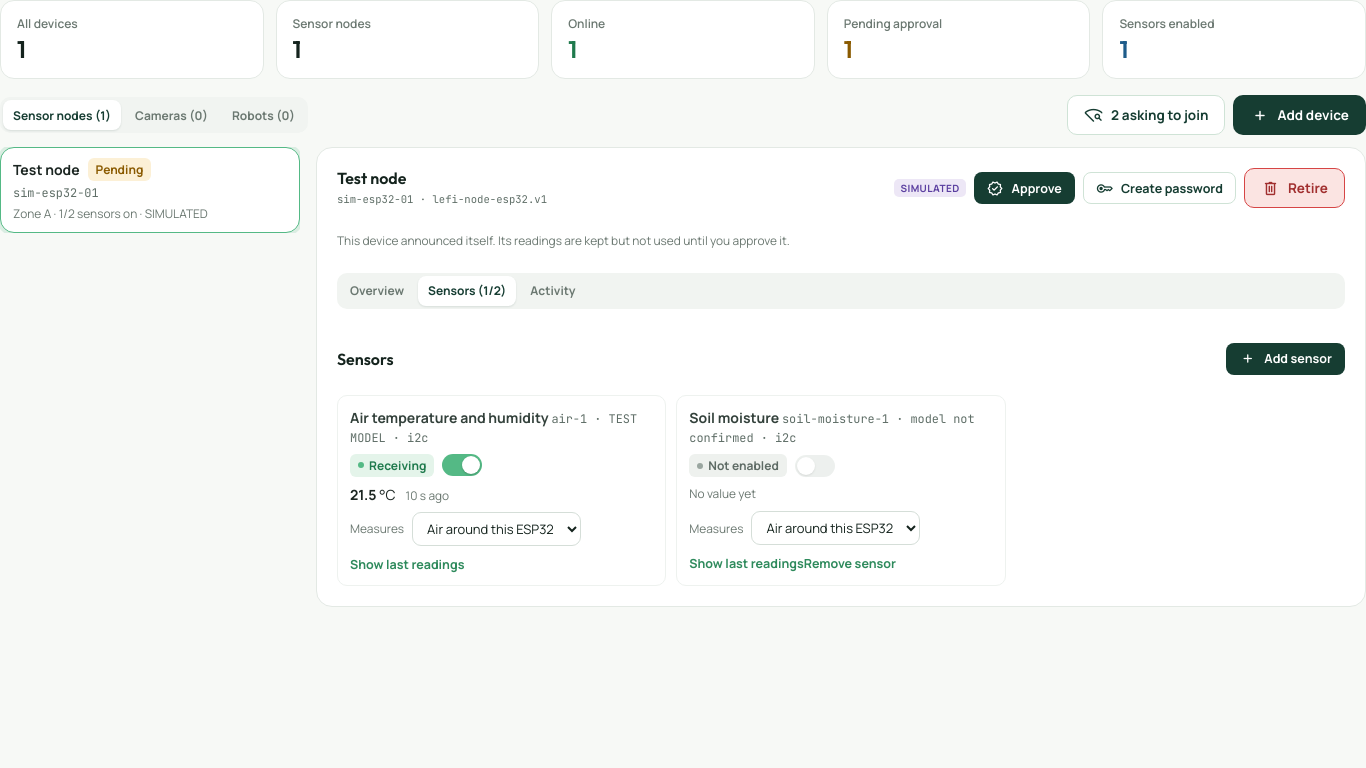
Test: Devices & Health against the real Lefi Brain › accepts a device that asked to join only with its claim code
The image size is (1366, 768).
Later steps or results of the test are not shown.
Click the button "2 asking to join".
click(1146, 115)  # box [1067, 95, 1225, 135]
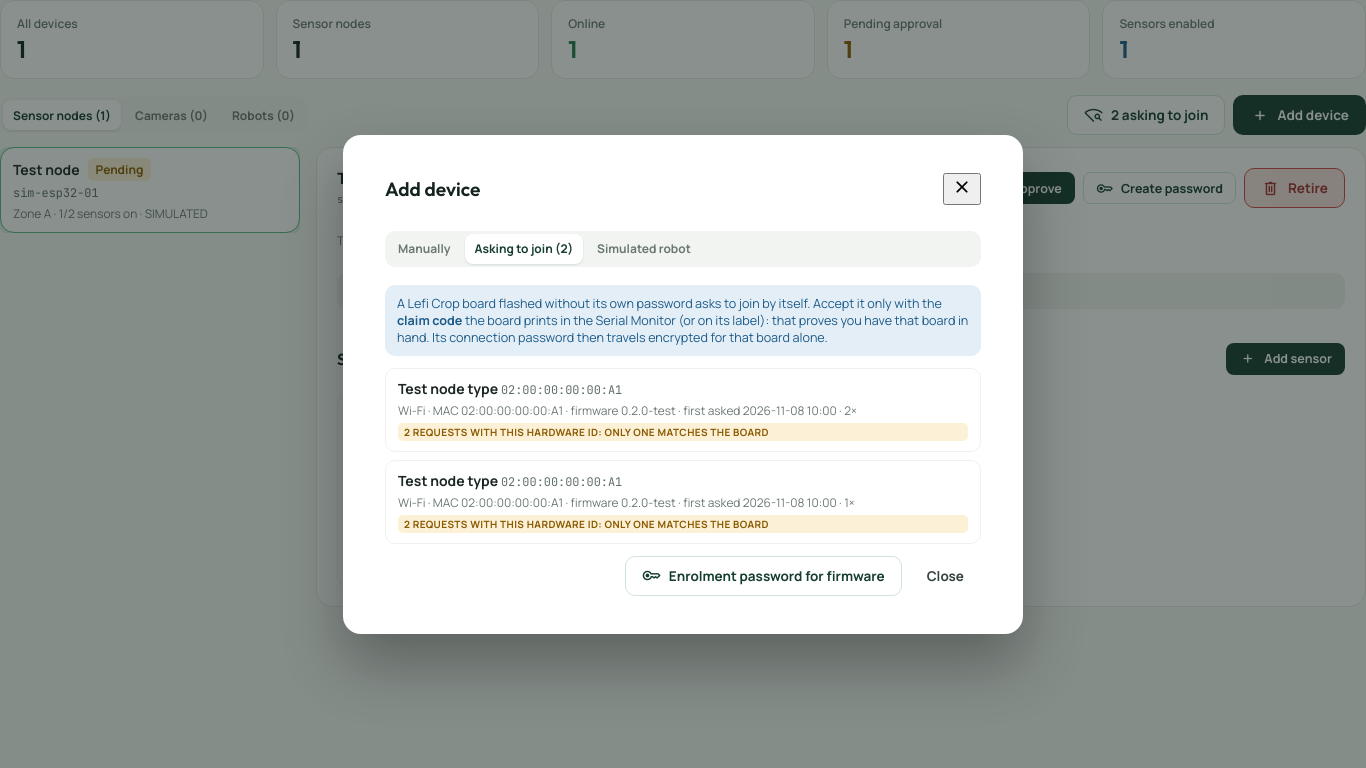
Now the text "2 requests with this hardware id: only one matches the board" is shown 2 times, box [398, 422, 968, 440]; [398, 514, 968, 532]
